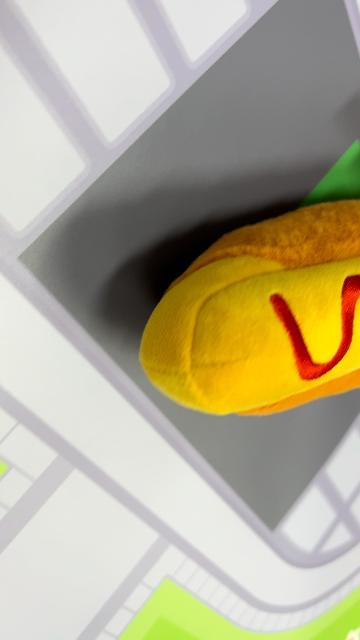hotdog: (138, 198, 358, 418)
